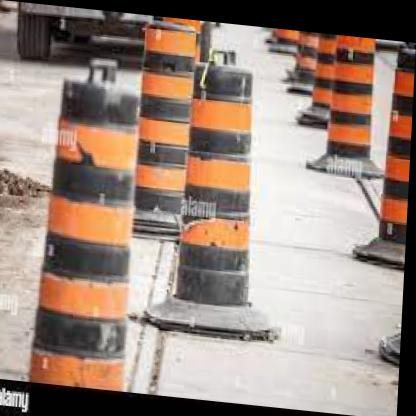obstacle: (50, 70, 142, 391), (177, 52, 267, 310), (134, 20, 194, 230)
